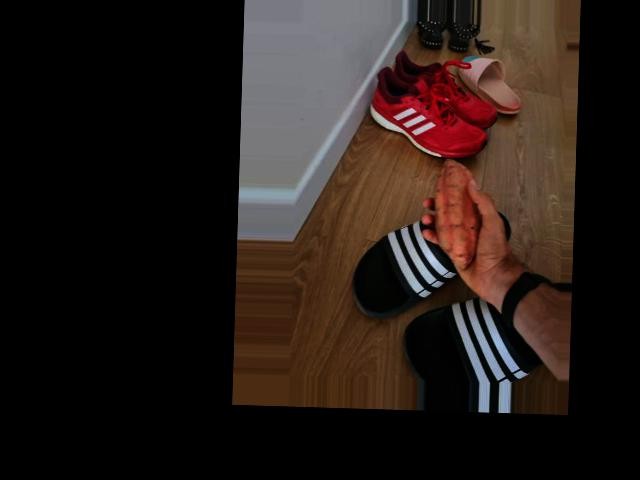sweet_potato: (431, 158, 480, 270)
